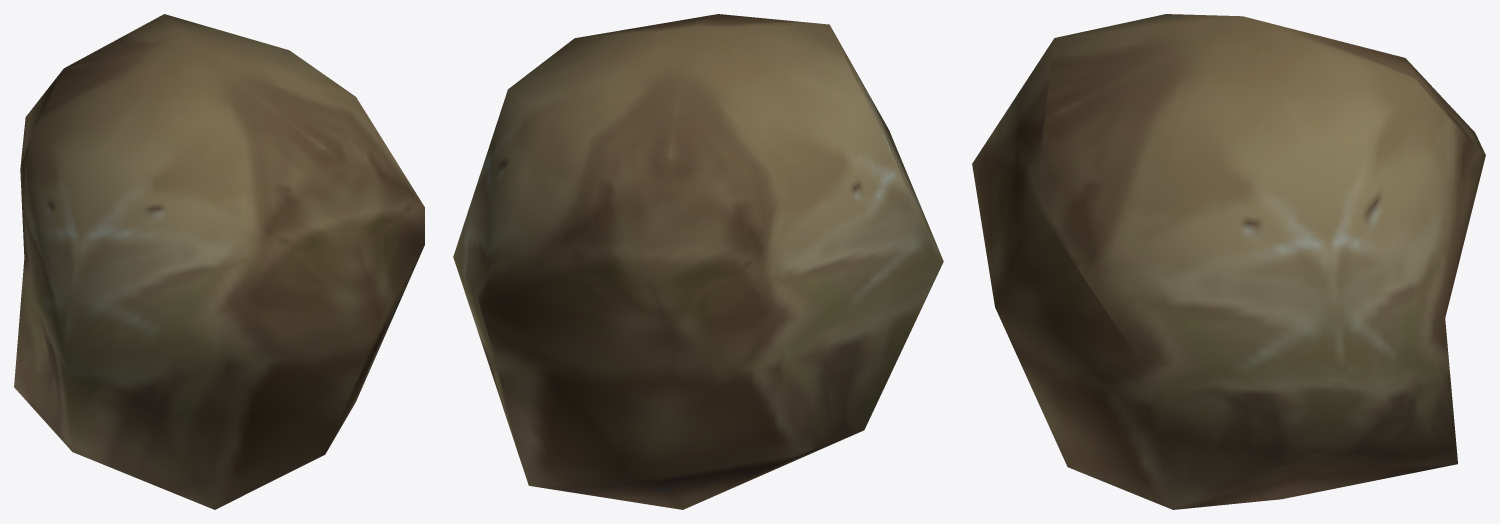
Rendered from shitou.FBX.
The picture shows the model from 3 angles, left to right: view 1: azimuth 30°, elevation 25°; view 2: azimuth 150°, elevation 25°; view 3: azimuth 270°, elevation 25°; orthographic projection. The views are drawn at different scales.
Parts seen in each view (by area): view 1: Object001; view 2: Object001; view 3: Object001.
Boxes of the visible parts, left/top/right/bottom form: Object001: left=14, top=14, right=424, bottom=509; Object001: left=453, top=14, right=943, bottom=509; Object001: left=972, top=14, right=1485, bottom=509.
Size of the model in its own units: 1.31 by 1.45 by 1.37.
